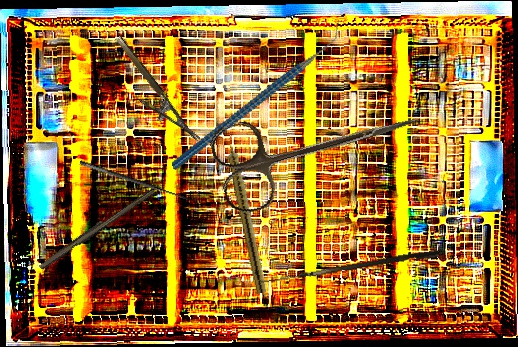Chopper: (145, 19, 369, 171)
Handpiece: (222, 133, 271, 295)
Hook Surgical: (259, 246, 440, 292), (78, 151, 200, 206)
Iris Scissors: (206, 72, 430, 219)
Needle Holder: (101, 34, 201, 155)
Scalpel Handle: (37, 184, 156, 273)
